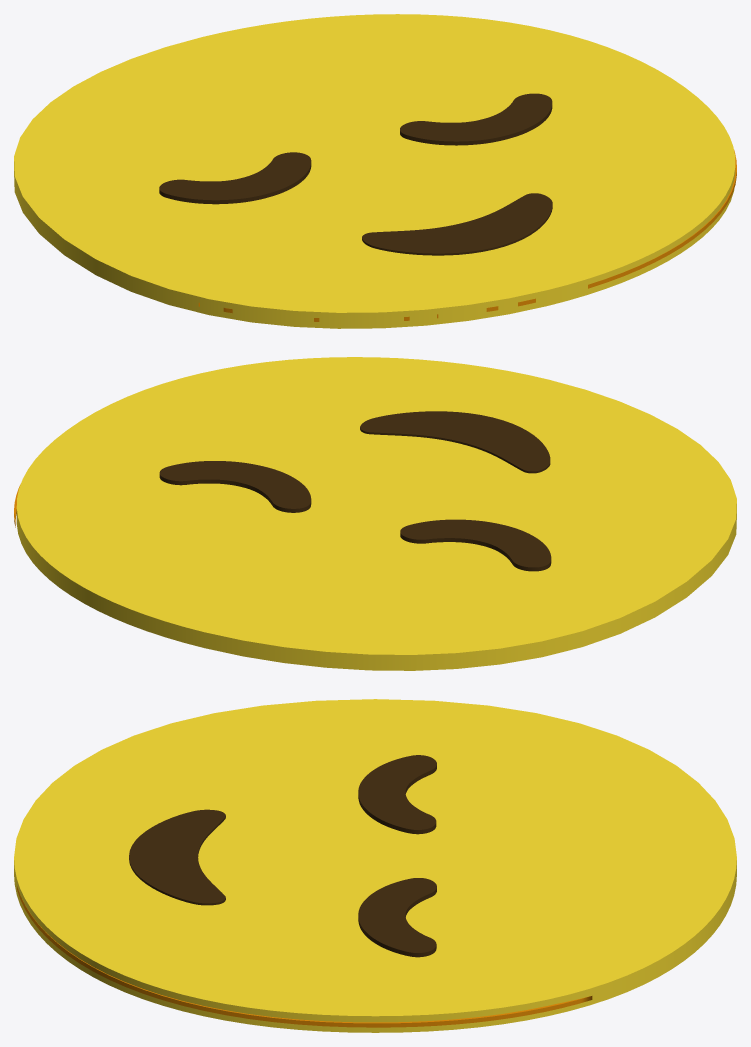
Rendered from emoji_u1f60c.glb.
3 renders of one model, top to bottom at view 1: azimuth 30°, elevation 25°; view 2: azimuth 150°, elevation 25°; view 3: azimuth 270°, elevation 25°, orthographic. The views are drawn at different scales.
Visible parts, largest first — view 1: emoji_u1f60c; view 2: emoji_u1f60c; view 3: emoji_u1f60c.
Part boxes in pixels (<box>): emoji_u1f60c: <box>14,14,736,328</box>; emoji_u1f60c: <box>14,357,736,670</box>; emoji_u1f60c: <box>14,699,736,1032</box>.
Size of the model in its own units: 0.0327 by 0.0012 by 0.0315.
